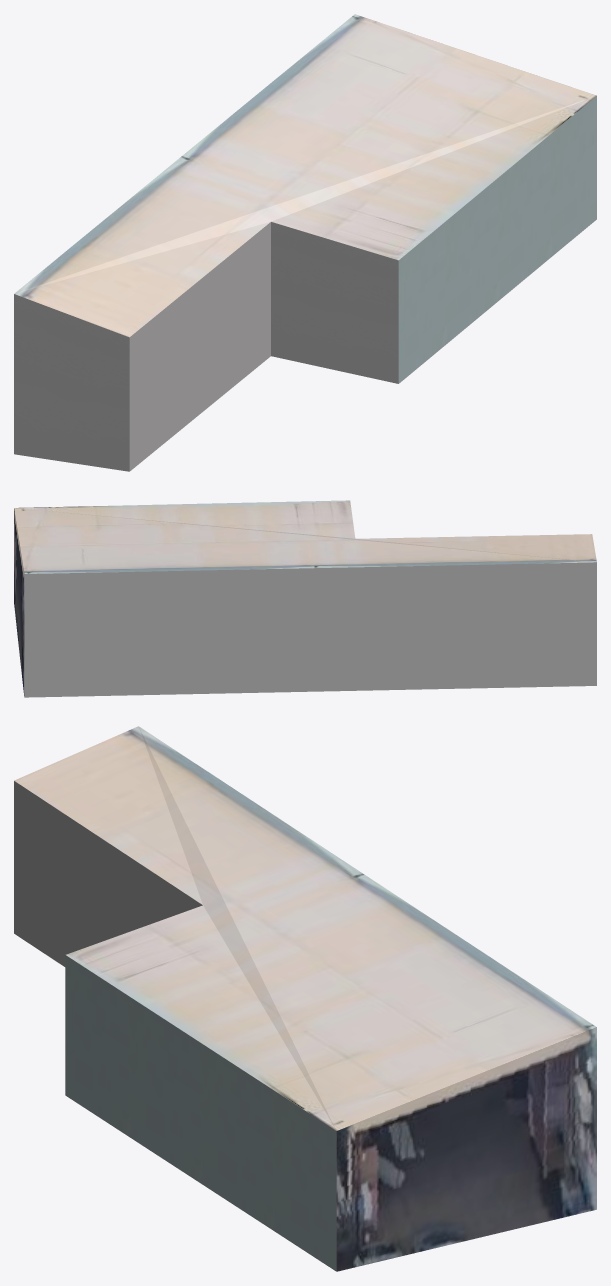
3 renders of one model, top to bottom at view 1: azimuth 30°, elevation 25°; view 2: azimuth 150°, elevation 25°; view 3: azimuth 270°, elevation 25°, orthographic. The views are drawn at different scales.
Parts seen in each view (by area): view 1: B292564043801062A0; view 2: B292564043801062A0; view 3: B292564043801062A0.
Boxes of the visible parts, x1,y1,x2,y2 form: B292564043801062A0: (14, 14, 596, 471); B292564043801062A0: (14, 500, 596, 697); B292564043801062A0: (14, 726, 596, 1271).
Bounding box in the file's own units: 26.51 × 6.06 × 17.56.
Materials: 3 (3 with a texture image).
